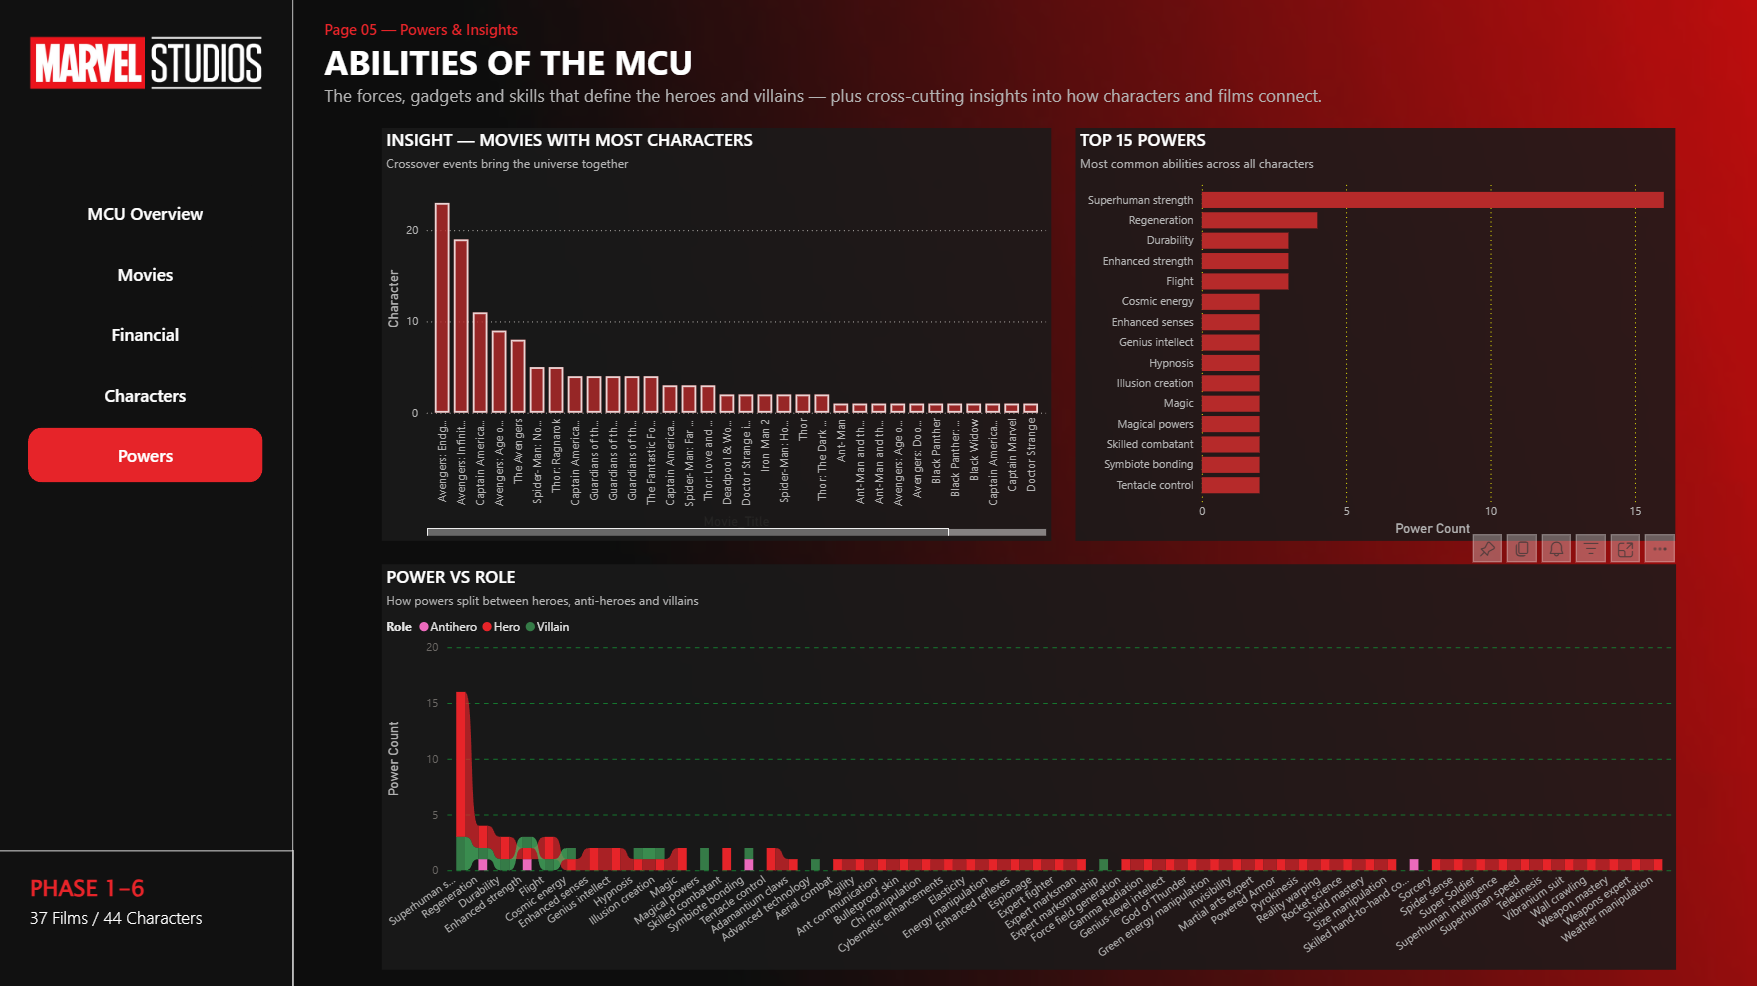

This screenshot's page, from the dashboard's own definition file:
{"tool":"powerbi","page":{"name":"Powers","canvas":[1920,1080],"ordinal":4},"visuals":[{"type":"shape","box":[0,0,322,1080],"z":0},{"type":"pageNavigator","box":[33.1,204.1,256.4,324.4],"z":1000},{"type":"textbox","box":[0,930,322,150],"z":2000},{"type":"textbox","box":[322,0,1598,142],"z":3000},{"type":"clusteredBarChart","title":"TOP 15 POWERS","fields":{"Y":["Power_Table.Power Count"],"Category":["Power_Table.Power"]},"box":[1176,142,654,450],"z":4000},{"type":"ribbonChart","title":"POWER VS ROLE","fields":{"Category":["Power_Table.Power"],"Y":["Power_Table.Power Count"],"Series":["Character_Table.Role"]},"box":[418,618,1412,442],"z":5000},{"type":"columnChart","title":"INSIGHT — MOVIES WITH MOST CHARACTERS","fields":{"Y":["Character_Movie_Table.Character Count"],"Category":["Character_Movie_Table.Movie_Title"]},"box":[418,142,730,450],"z":6000},{"type":"image","box":[0,0,322.7,141.3],"z":7000}]}

Visuals, with their boxes on the page's 1920x1080 design canvas (x1, y1, x2, y2). These are canvas units, not pixel positions in the 1757x986 screenshot, which may show the page scaled, cropped or inside an application window:
shape: (left=0, top=0, right=322, bottom=1080)
pageNavigator: (left=33, top=204, right=290, bottom=528)
textbox: (left=0, top=930, right=322, bottom=1080)
textbox: (left=322, top=0, right=1920, bottom=142)
"TOP 15 POWERS" clusteredBarChart: (left=1176, top=142, right=1830, bottom=592)
"POWER VS ROLE" ribbonChart: (left=418, top=618, right=1830, bottom=1060)
"INSIGHT — MOVIES WITH MOST CHARACTERS" columnChart: (left=418, top=142, right=1148, bottom=592)
image: (left=0, top=0, right=323, bottom=141)
